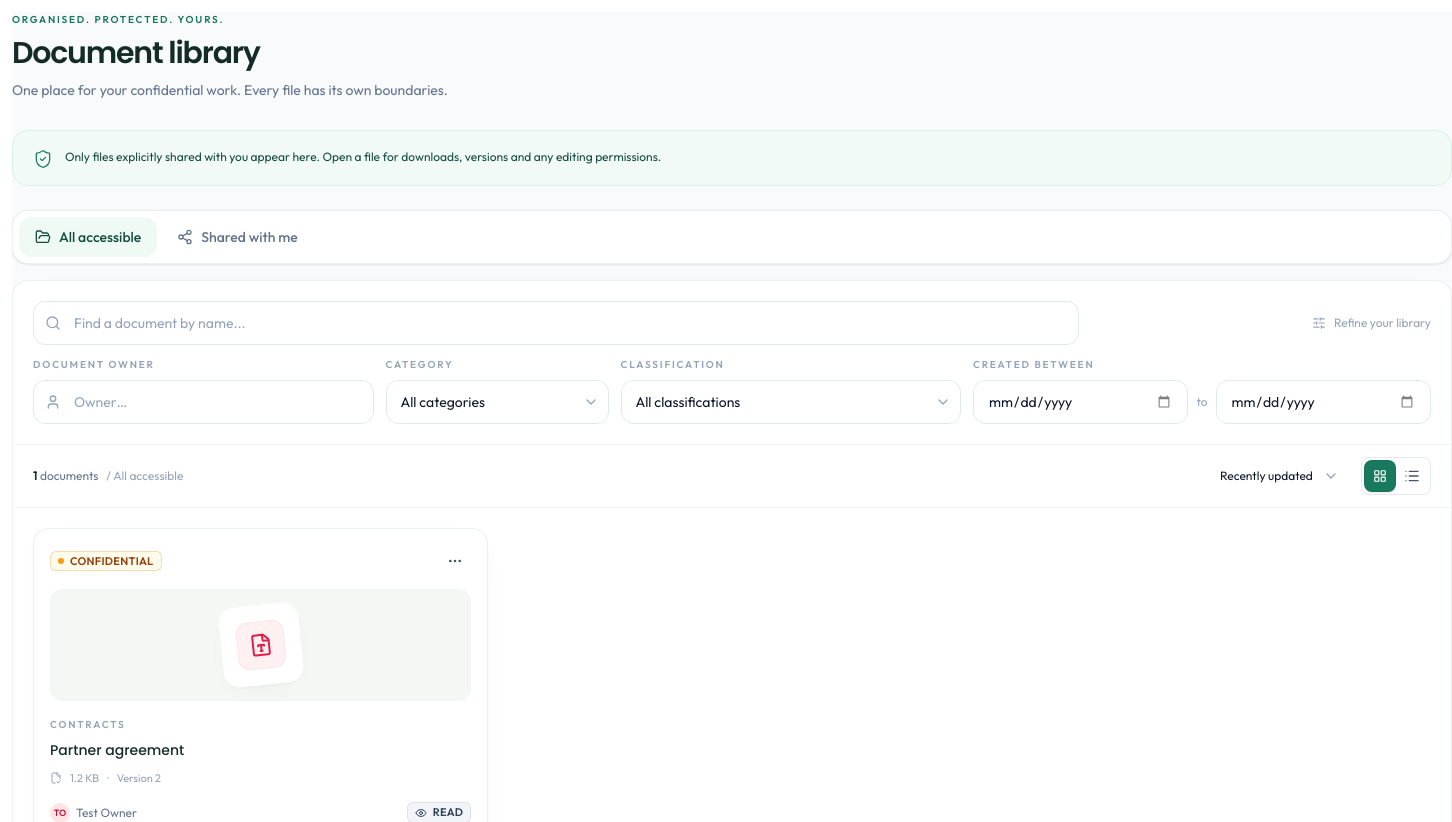
Test case: document workspace › does not expose owner actions for a viewer with a read grant
The width and height of the screenshot is (1452, 822).
Expected: the link "Partner agreement" is shown, 50,740 -> 184,760
Click the button named "Actions for Partner agreement" at {"x": 455, "y": 561}, box 439,545 -> 471,577
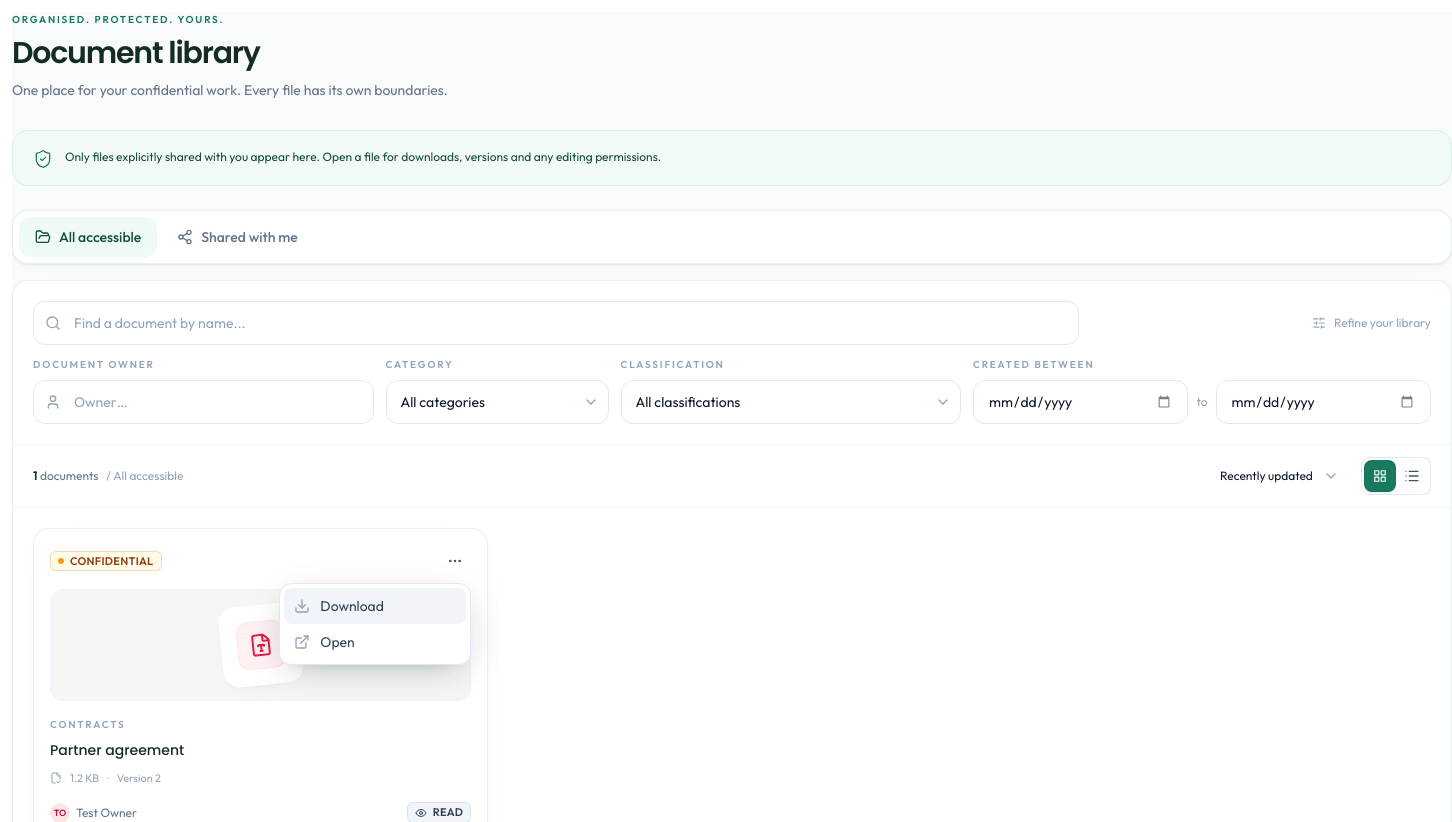
Now the menu item "Download" is shown, box 284,588 -> 466,624
